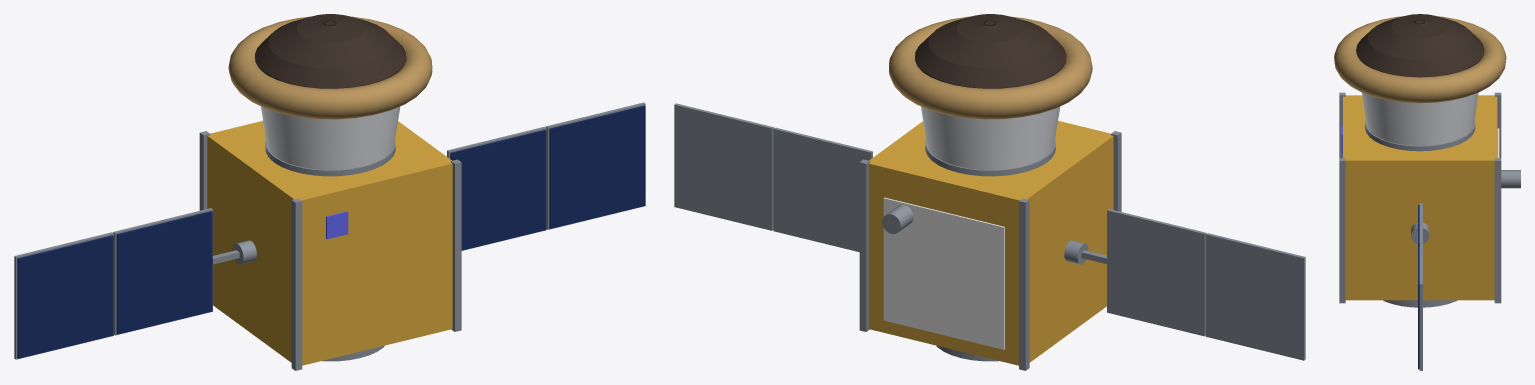
File: SP-ORG.glb
3 views of the same model, side by side, from view 1: azimuth 30°, elevation 25°; view 2: azimuth 150°, elevation 25°; view 3: azimuth 270°, elevation 25° (orthographic). The views are drawn at different scales.
Visible parts, largest first — view 1: service_module_structure, solar_panel_-X1, solar_panel_+X2, solar_panel_-X2, solar_panel_+X1, nose, heat_shield_packed, capsule_backshell, corner_rail_-X-Y, corner_rail_+X-Y, panel_frame_-X2, separation_interface (+5 smaller); view 2: service_module_structure, radiator_+Y_face, panel_frame_-X2, panel_frame_+X2, panel_frame_-X1, panel_frame_+X1, nose, heat_shield_packed, capsule_backshell, corner_rail_-X+Y, corner_rail_+X+Y, separation_interface (+2 smaller); view 3: service_module_structure, nose, heat_shield_packed, capsule_backshell, corner_rail_+X+Y, corner_rail_+X-Y, separation_interface, panel_frame_+X2, launch_separation_ring, star_tracker, corner_rail_-X+Y, corner_rail_-X-Y (+2 smaller).
Part boxes in pixels (x1,y1,x2,y2): service_module_structure: (207,121,452,365); solar_panel_-X1: (116,211,212,334); solar_panel_+X2: (549,105,645,228); solar_panel_-X2: (17,235,113,358); solar_panel_+X1: (450,129,546,250); nose: (255,14,406,88); heat_shield_packed: (228,16,432,119); capsule_backshell: (261,106,400,169); corner_rail_-X-Y: (291,198,302,370); corner_rail_+X-Y: (451,159,461,331); panel_frame_-X2: (14,232,113,359); separation_interface: (265,139,395,176); service_module_structure: (868,120,1113,365); radiator_+Y_face: (883,197,1004,349); panel_frame_-X2: (1206,233,1305,360); panel_frame_+X2: (674,103,773,230); panel_frame_-X1: (1107,209,1206,336); panel_frame_+X1: (773,127,872,252); nose: (915,14,1066,88); heat_shield_packed: (889,16,1092,119); capsule_backshell: (921,106,1060,169); corner_rail_-X+Y: (1019,198,1029,370); corner_rail_+X+Y: (859,159,870,331); separation_interface: (925,139,1055,176); service_module_structure: (1343,95,1497,300); nose: (1356,14,1484,77); heat_shield_packed: (1334,16,1506,103); capsule_backshell: (1362,92,1478,145); corner_rail_+X+Y: (1494,158,1501,303); corner_rail_+X-Y: (1339,158,1345,303); separation_interface: (1365,120,1475,151); panel_frame_+X2: (1419,244,1422,370); launch_separation_ring: (1383,300,1457,307); star_tracker: (1501,170,1520,188); corner_rail_-X+Y: (1494,92,1501,158); corner_rail_-X-Y: (1339,92,1345,158).
Size of the model in its own units: 2.35 by 1.12 by 0.716.
